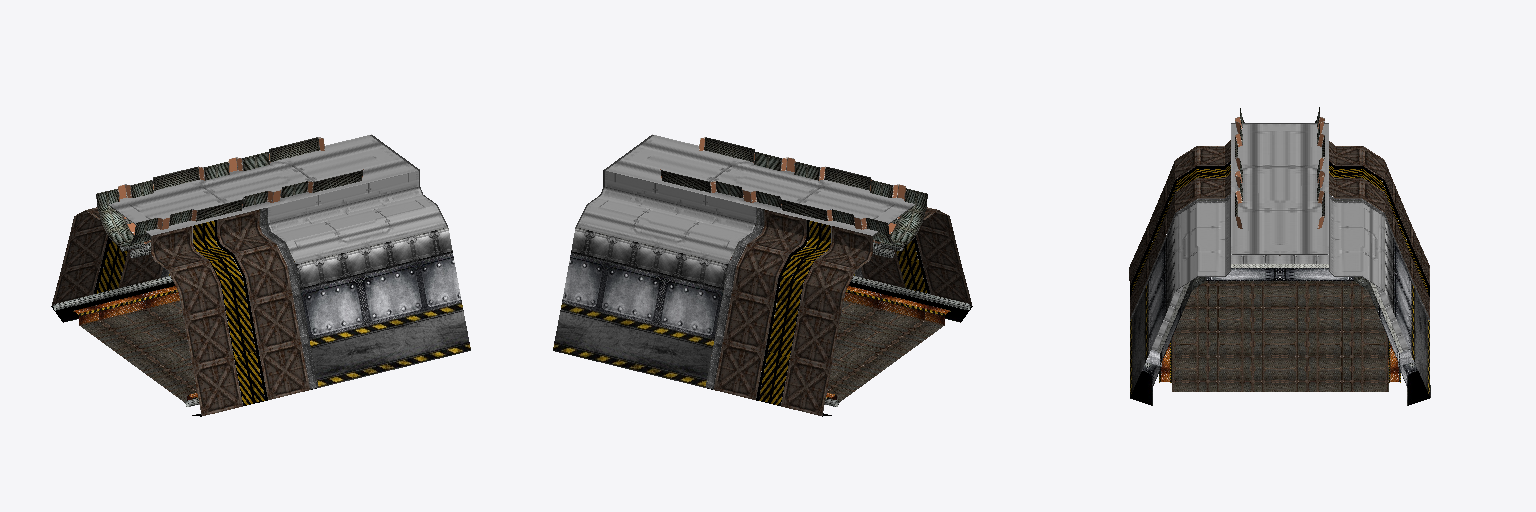
3 views of the same model, side by side, from view 1: azimuth 30°, elevation 25°; view 2: azimuth 150°, elevation 25°; view 3: azimuth 270°, elevation 25° (orthographic).
Size of the model in its own units: 3.01 by 1.68 by 2.8.
Materials: 1 (1 with a texture image).